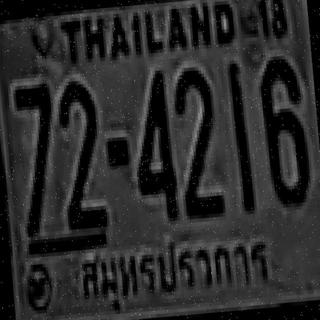N01: (226, 63, 253, 212)
N02: (173, 67, 224, 214), (58, 78, 107, 229)
N04: (130, 68, 179, 222)
N06: (256, 54, 310, 206)
N07: (12, 80, 59, 234)
P57: (80, 232, 277, 310)
